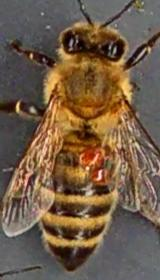varroa_mite: (78, 138, 115, 166), (87, 165, 114, 182)
